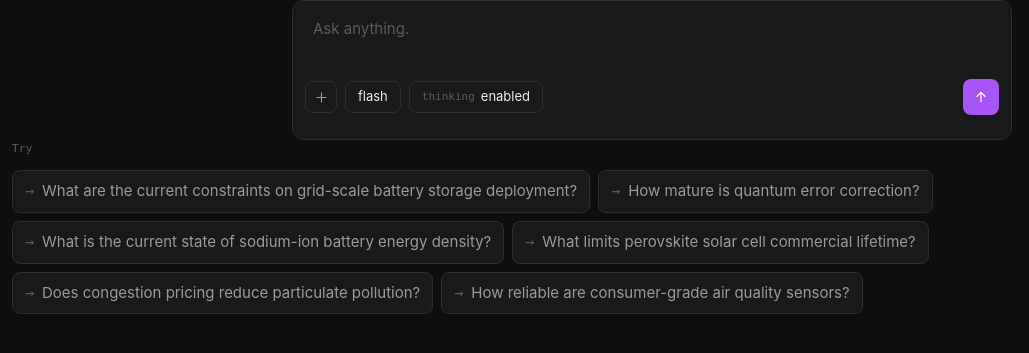
Test: Composer › shows the 422 issues under the box, keeps the question and posts exactly once
The width and height of the screenshot is (1029, 353).
Type "How mature is quantum error correction?" into the text box named "Research question" at (652, 40), box [305, 13, 999, 67]
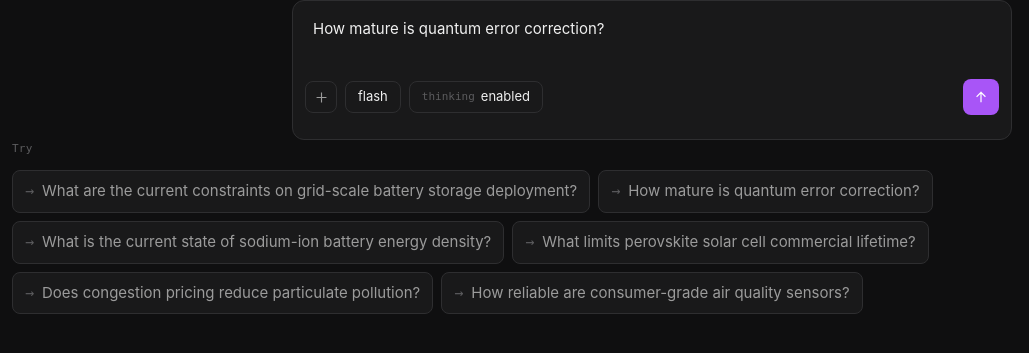
Submit the form named "Research question", box [292, 0, 1012, 140]
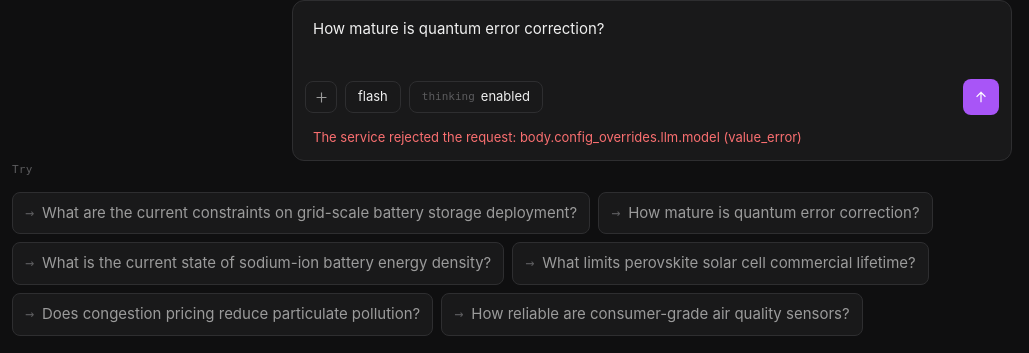
Now the message reads "The service rejected the request: body.config_overrides.llm.model (value_error)", box [313, 129, 802, 145]
